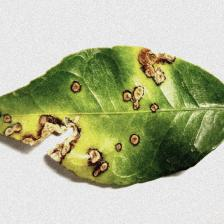canker: (1, 48, 184, 206)
